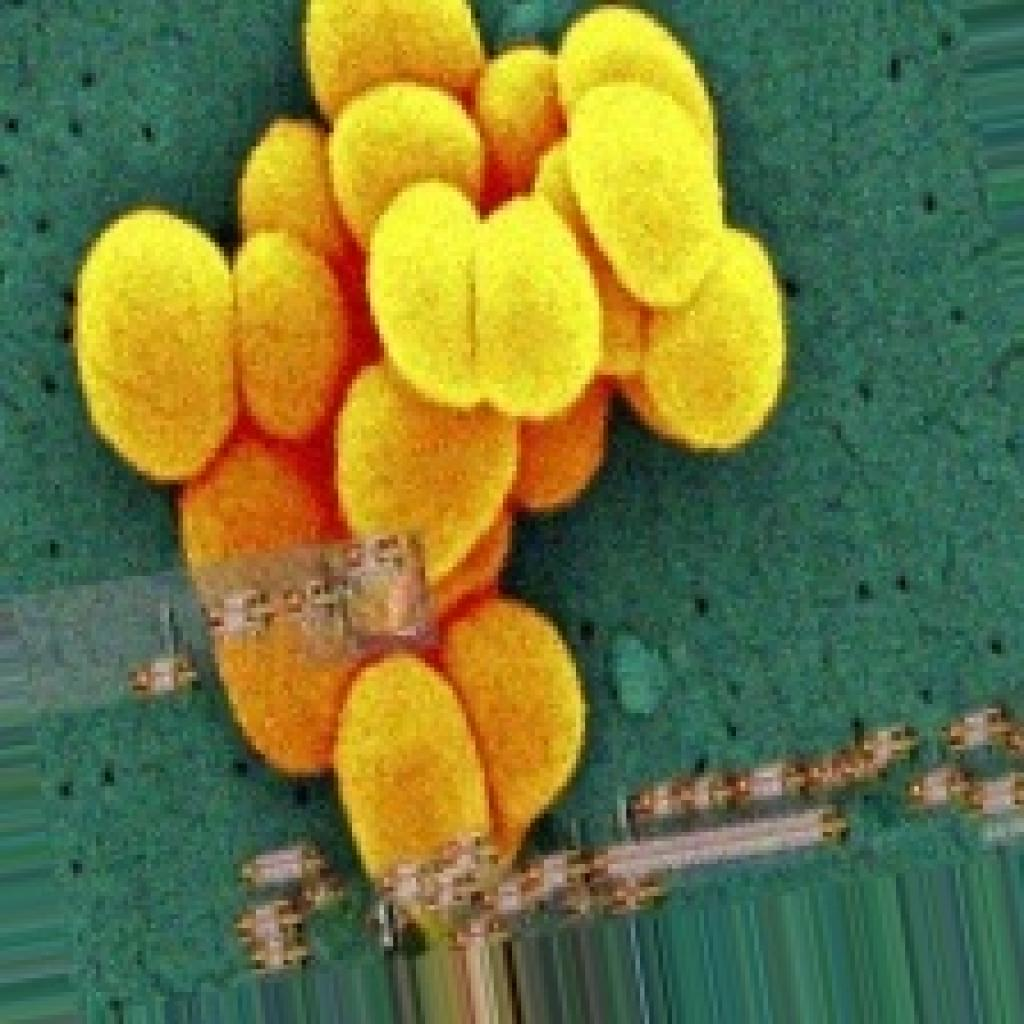Sphericalbacteria: (68, 0, 791, 896)
